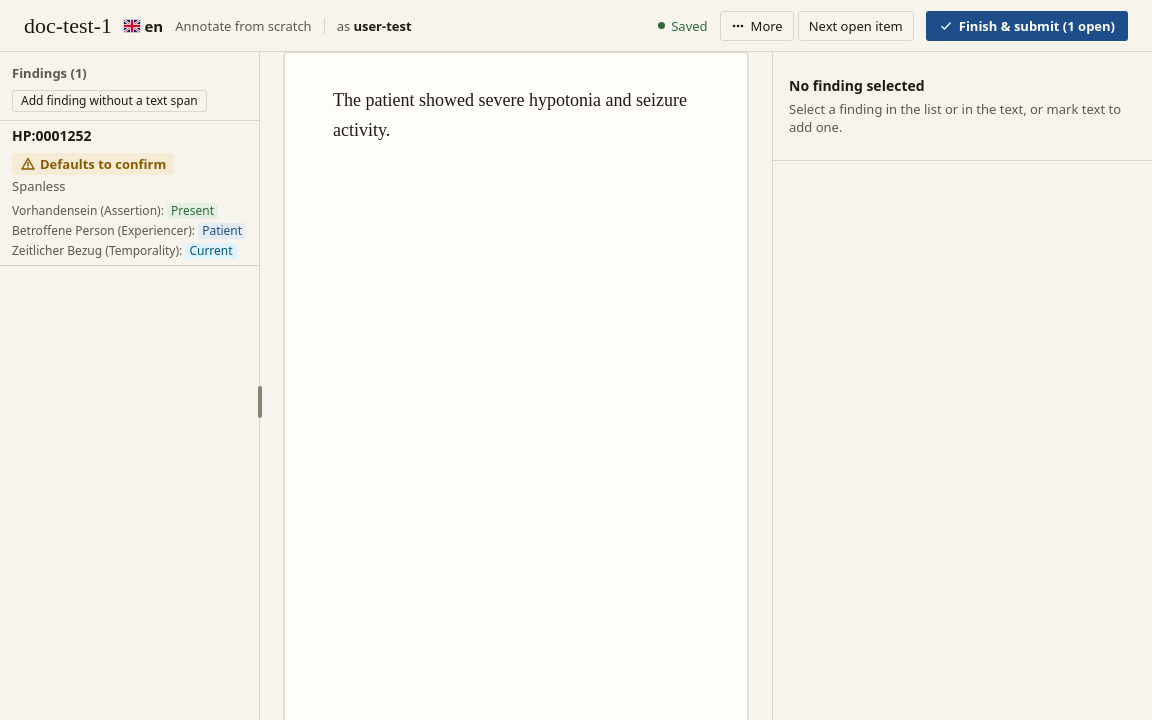
CaseScreen integration › submit with unconfirmed values › auto-resends once when the warning lists exactly the acknowledged values
The image size is (1152, 720).
Click the button "Finish & submit (1 open)": (1027, 26) [926, 10, 1128, 40]
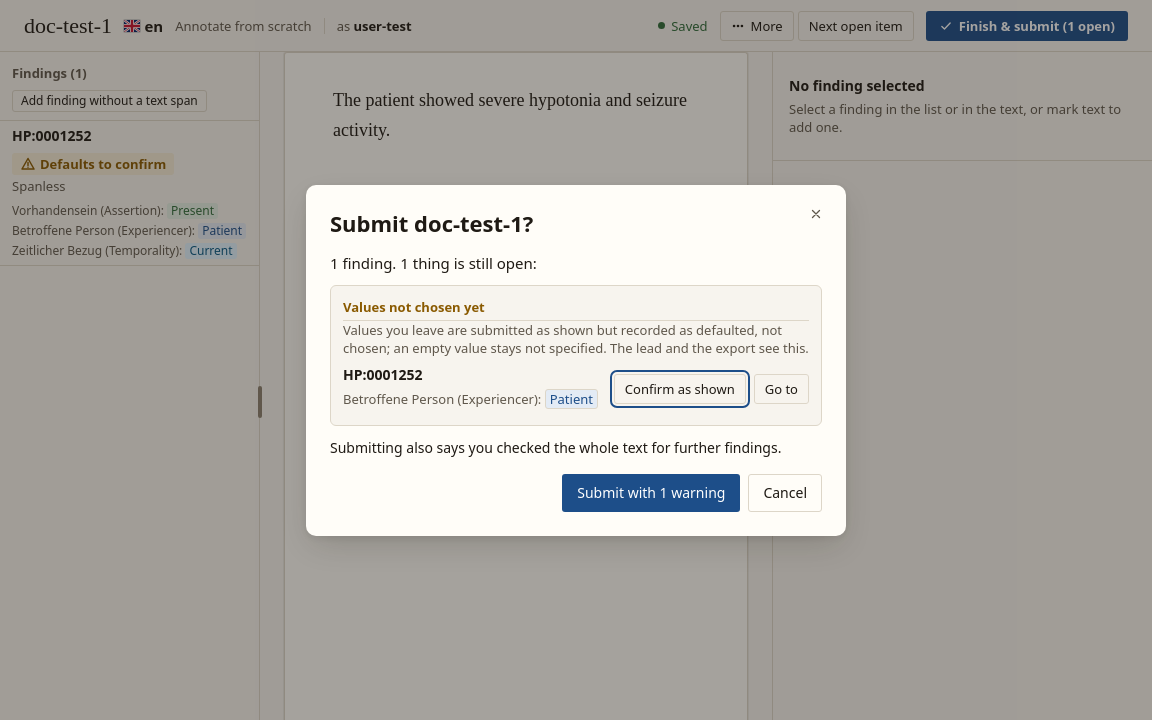
expect the heading "Values not chosen yet" is shown: met, box [343, 298, 485, 316]
Click the button "Submit with 1 warning": (651, 492) [562, 474, 740, 512]
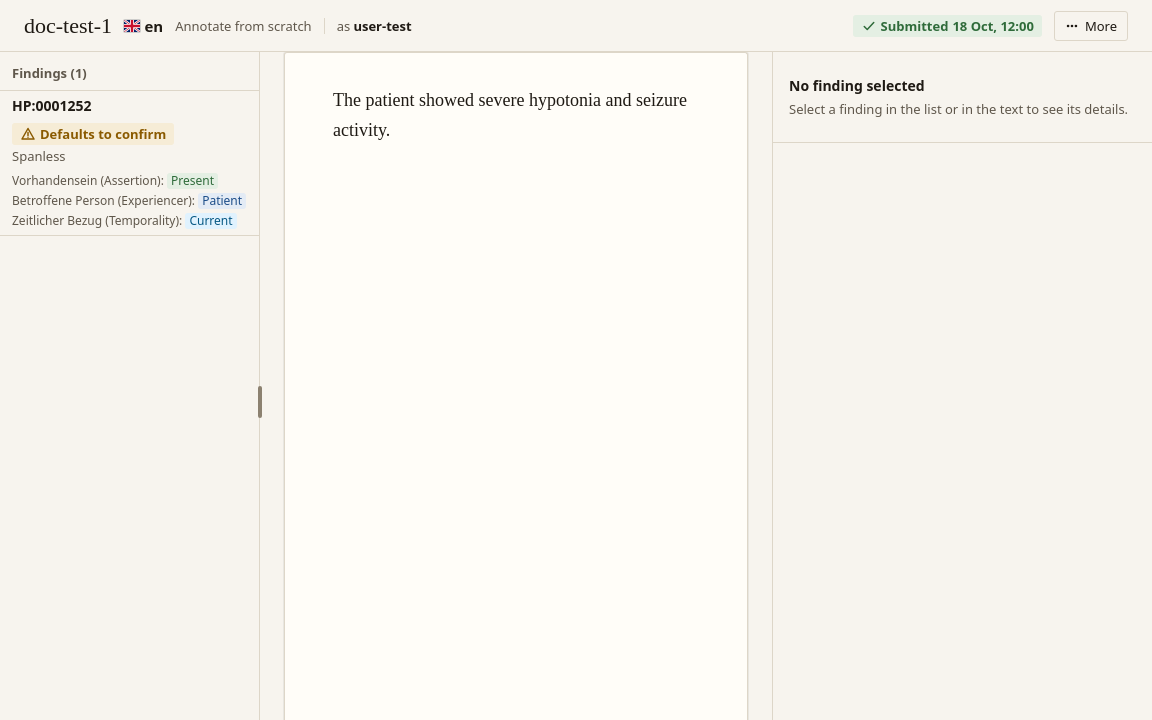
expect the text "Submitted 18 Oct, 12:00" is shown: met, box [852, 14, 1042, 36]
